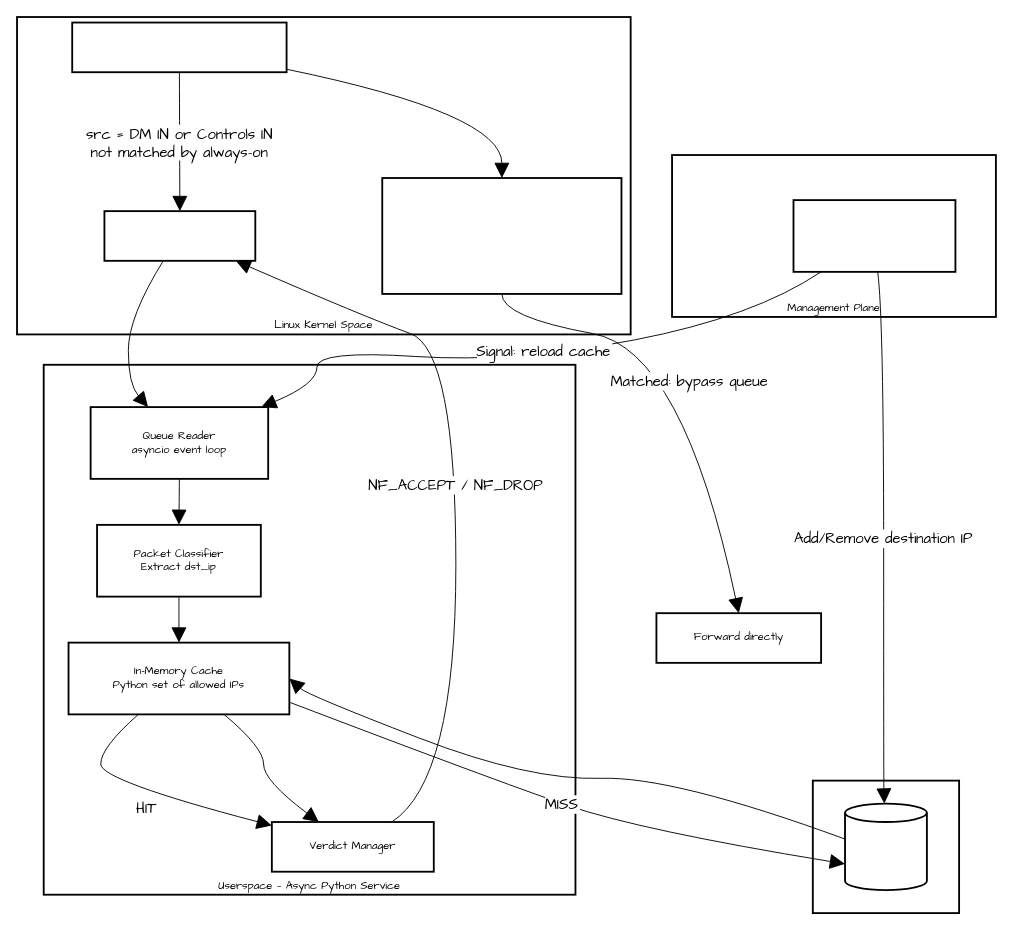
Image size: 1012x929. Some labels were removed from this diagram. Each missing label, with the centre of its shape:
Always-On Rules DM EU to API: ACCEPT ESTABLISHED,RELATED: ACCEPT: (x=501, y=235)
iptables FORWARD chain: (x=179, y=47)
NFQUEUE no.5: (x=179, y=235)
REST API Called by DM EU: (x=874, y=235)
SQLite DB WAL mode: (x=885, y=846)
